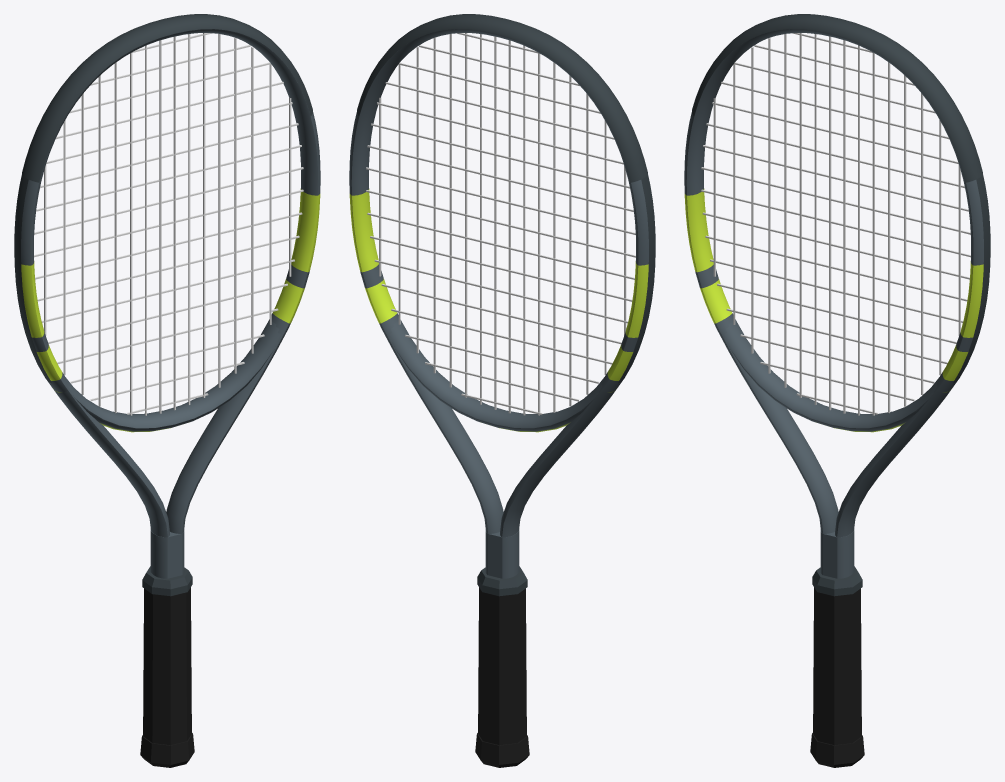
The model's file is babolat-aero-junior-25-2026.glb.
3 views of the same model, side by side, from view 1: azimuth 30°, elevation 25°; view 2: azimuth 150°, elevation 25°; view 3: azimuth 330°, elevation 25° (orthographic).
Visible parts, largest first — view 1: frame, strings_mains, strings_crosses, grip, bumper, grommets, butt_cap, collar; view 2: frame, strings_mains, strings_crosses, grip, bumper, grommets, butt_cap, collar; view 3: frame, strings_mains, strings_crosses, grip, bumper, grommets, butt_cap, collar.
Boxes of the visible parts, <box> form: frame: <box>15,29,320,578</box>; strings_mains: <box>44,33,291,415</box>; strings_crosses: <box>34,33,303,414</box>; grip: <box>143,587,191,745</box>; bumper: <box>22,14,312,182</box>; grommets: <box>14,175,51,383</box>; butt_cap: <box>140,733,194,767</box>; collar: <box>142,566,192,596</box>; frame: <box>349,29,654,578</box>; strings_mains: <box>379,33,626,415</box>; strings_crosses: <box>366,33,635,414</box>; grip: <box>478,587,526,745</box>; bumper: <box>357,14,647,182</box>; grommets: <box>618,175,655,383</box>; butt_cap: <box>475,733,529,767</box>; collar: <box>477,566,527,596</box>; frame: <box>684,29,989,578</box>; strings_mains: <box>713,33,960,415</box>; strings_crosses: <box>701,33,970,414</box>; grip: <box>813,587,861,745</box>; bumper: <box>692,14,982,182</box>; grommets: <box>953,175,990,383</box>; butt_cap: <box>810,733,864,767</box>; collar: <box>812,566,862,596</box>.
Size of the model in its own units: 0.2717 by 0.6353 by 0.0396.
